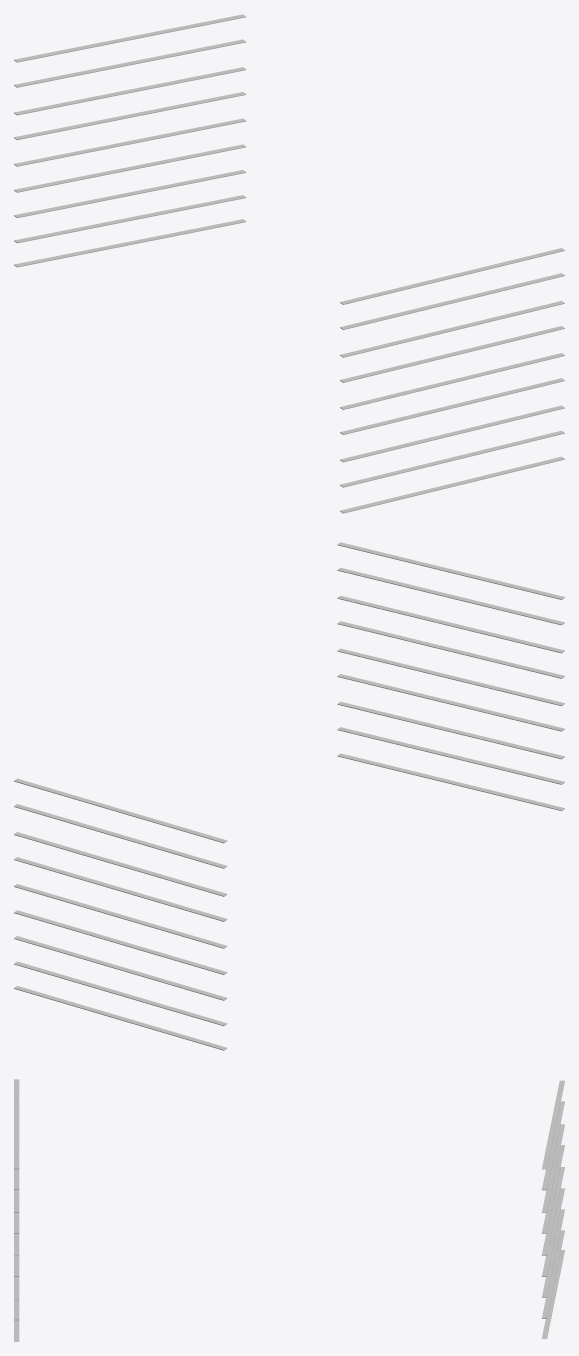
Rendered from Louvers Horizontal.FBX.
3 renders of one model, top to bottom at view 1: azimuth 30°, elevation 25°; view 2: azimuth 150°, elevation 25°; view 3: azimuth 270°, elevation 25°, orthographic. The views are drawn at different scales.
Visible parts, largest first — view 1: Box272, Box273, Box262, Box274, Box277, Box268, Box276, Box278, Box261, Box264, Box269, Box271 (+6 smaller); view 2: Box265, Box266, Box269, Box261, Box263, Box264, Box267, Box268, Box270, Box273, Box277, Box275 (+6 smaller); view 3: Box261, Box262, Box272, Box274, Box275, Box271, Box277, Box276, Box273, Box278.
Boxes of the visible parts, bbox=[...] form: Box272: bbox=[14, 67, 246, 115]; Box273: bbox=[14, 92, 246, 140]; Box262: bbox=[14, 14, 245, 62]; Box274: bbox=[14, 118, 245, 166]; Box277: bbox=[14, 195, 246, 243]; Box268: bbox=[340, 405, 564, 462]; Box276: bbox=[14, 170, 246, 217]; Box278: bbox=[14, 219, 246, 267]; Box261: bbox=[340, 248, 564, 304]; Box264: bbox=[340, 301, 564, 357]; Box269: bbox=[340, 430, 564, 487]; Box271: bbox=[14, 39, 245, 87]; Box265: bbox=[337, 621, 564, 678]; Box266: bbox=[337, 648, 564, 706]; Box269: bbox=[337, 727, 564, 784]; Box261: bbox=[337, 542, 564, 599]; Box263: bbox=[337, 567, 564, 625]; Box264: bbox=[337, 595, 564, 653]; Box267: bbox=[337, 674, 564, 731]; Box268: bbox=[337, 701, 564, 759]; Box270: bbox=[337, 753, 564, 810]; Box273: bbox=[14, 857, 227, 921]; Box277: bbox=[14, 961, 227, 1026]; Box275: bbox=[14, 910, 227, 974]; Box261: bbox=[14, 1079, 19, 1169]; Box262: bbox=[542, 1080, 564, 1169]; Box272: bbox=[542, 1124, 564, 1212]; Box274: bbox=[541, 1167, 564, 1255]; Box275: bbox=[541, 1188, 564, 1276]; Box271: bbox=[542, 1101, 564, 1190]; Box277: bbox=[541, 1230, 564, 1318]; Box276: bbox=[542, 1209, 564, 1297]; Box273: bbox=[541, 1145, 564, 1233]; Box278: bbox=[542, 1250, 564, 1338].
Size of the model in its own units: 722 by 650 by 1875.
1 material, 1 textured.
